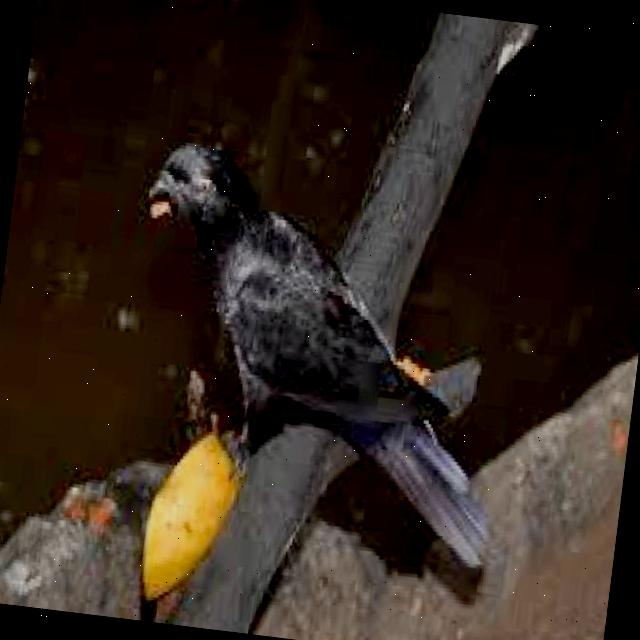Nuri Hitam: (85, 119, 550, 592)
